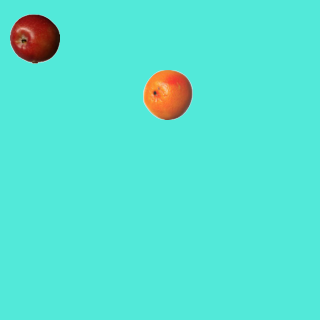Apple Braeburn: (9, 13, 59, 63)
Grapefruit Pink: (142, 69, 192, 119)
